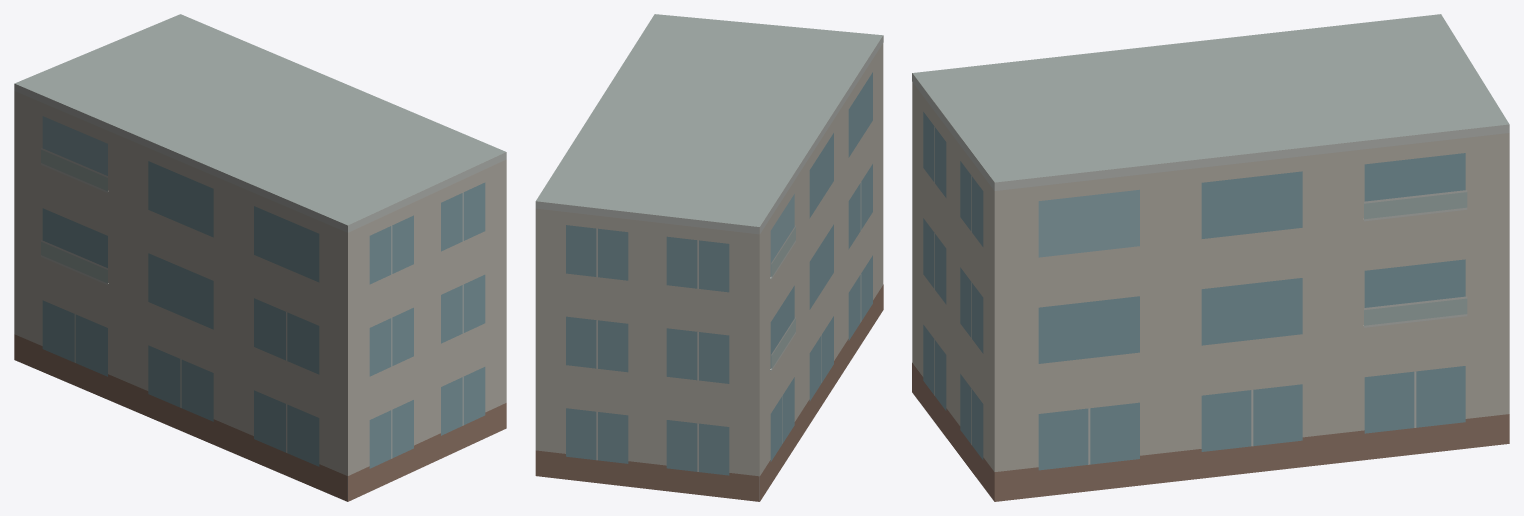
File: survey-upis-32927690.glb
The picture shows the model from 3 angles, left to right: view 1: azimuth 30°, elevation 25°; view 2: azimuth 150°, elevation 25°; view 3: azimuth 270°, elevation 25°; orthographic projection. The views are drawn at different scales.
Parts seen in each view (by area): view 1: survey-upis-32927690.tmp; view 2: survey-upis-32927690.tmp; view 3: survey-upis-32927690.tmp.
Boxes of the visible parts, x1,y1,x2,y2 form: survey-upis-32927690.tmp: [14, 14, 506, 501]; survey-upis-32927690.tmp: [535, 14, 883, 501]; survey-upis-32927690.tmp: [912, 14, 1509, 501].
Bounding box in the file's own units: 10.37 × 9.15 × 15.52.
